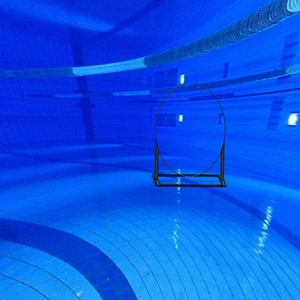circle: (152, 82, 229, 187)
